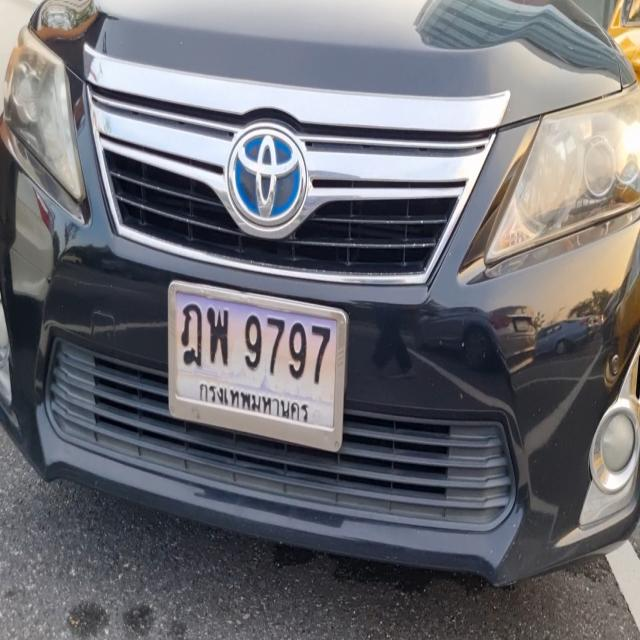license_plate: (167, 274, 351, 460)
